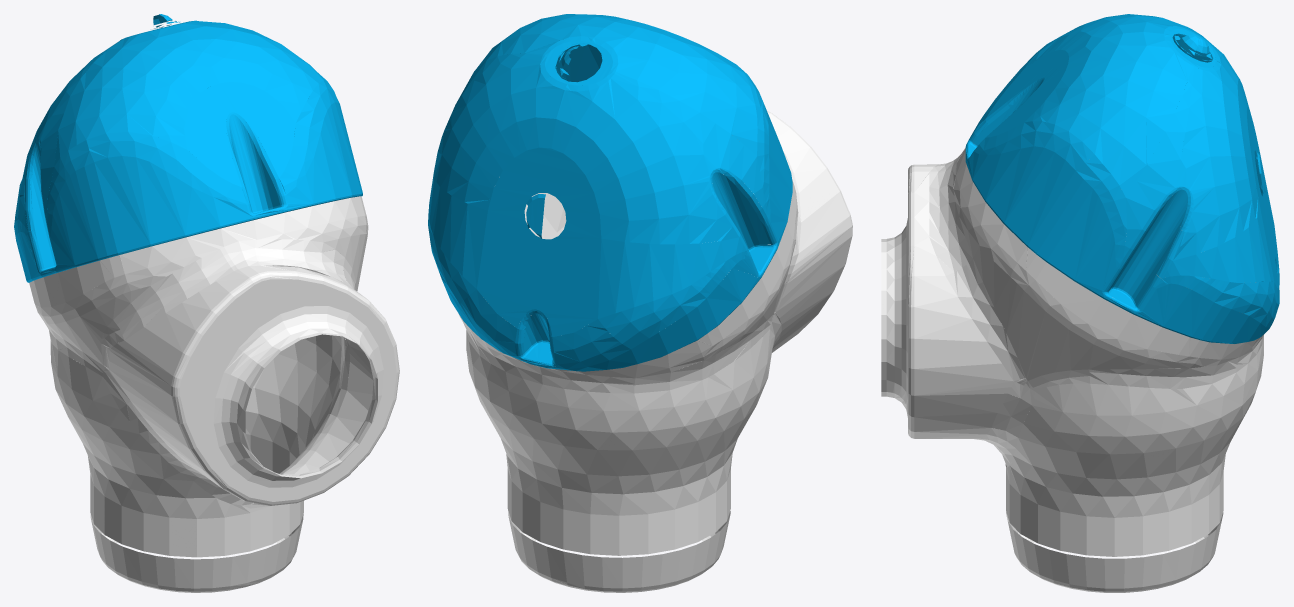
3 renders of one model, left to right at view 1: azimuth 30°, elevation 25°; view 2: azimuth 150°, elevation 25°; view 3: azimuth 270°, elevation 25°, orthographic. The views are drawn at different scales.
Visible parts, largest first — view 1: HC10.001, HC10.002, HC10.003; view 2: HC10.002, HC10.001, HC10.003; view 3: HC10.001, HC10.002, HC10.003.
Boxes of the visible parts, x1=… form: HC10.001: x1=29, y1=196, x2=399, y2=557; HC10.002: x1=14, y1=14, x2=362, y2=282; HC10.003: x1=90, y1=514, x2=303, y2=592; HC10.002: x1=428, y1=14, x2=792, y2=371; HC10.001: x1=459, y1=110, x2=852, y2=555; HC10.003: x1=508, y1=510, x2=730, y2=592; HC10.001: x1=881, y1=148, x2=1263, y2=556; HC10.002: x1=965, y1=14, x2=1279, y2=343; HC10.003: x1=1006, y1=512, x2=1223, y2=592.
Bounding box in the file's own units: 16.2 × 26.99 × 18.69.
